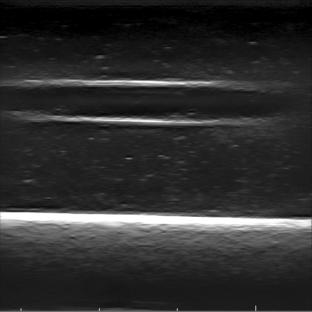vessel: (0, 76, 288, 129)
